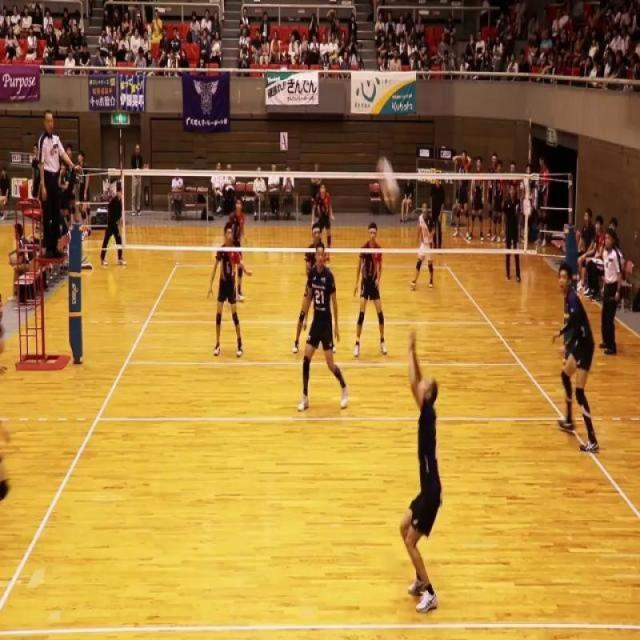volleyball: (377, 153, 400, 214)
